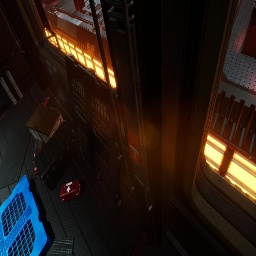FireAlarm ,: (127, 129, 142, 168)
FireExtinguisher ]: (42, 94, 50, 106)
FirstAidBox ,: (60, 179, 81, 202)
NitrogenTank ,: (33, 140, 43, 180)
